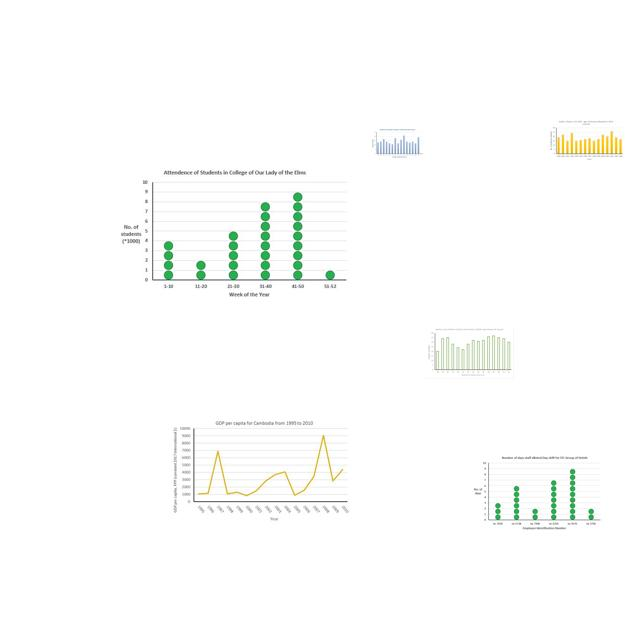Graph: (116, 166, 351, 302), (171, 418, 351, 523), (471, 455, 603, 532), (426, 327, 514, 379), (548, 119, 625, 161), (371, 128, 424, 159)
